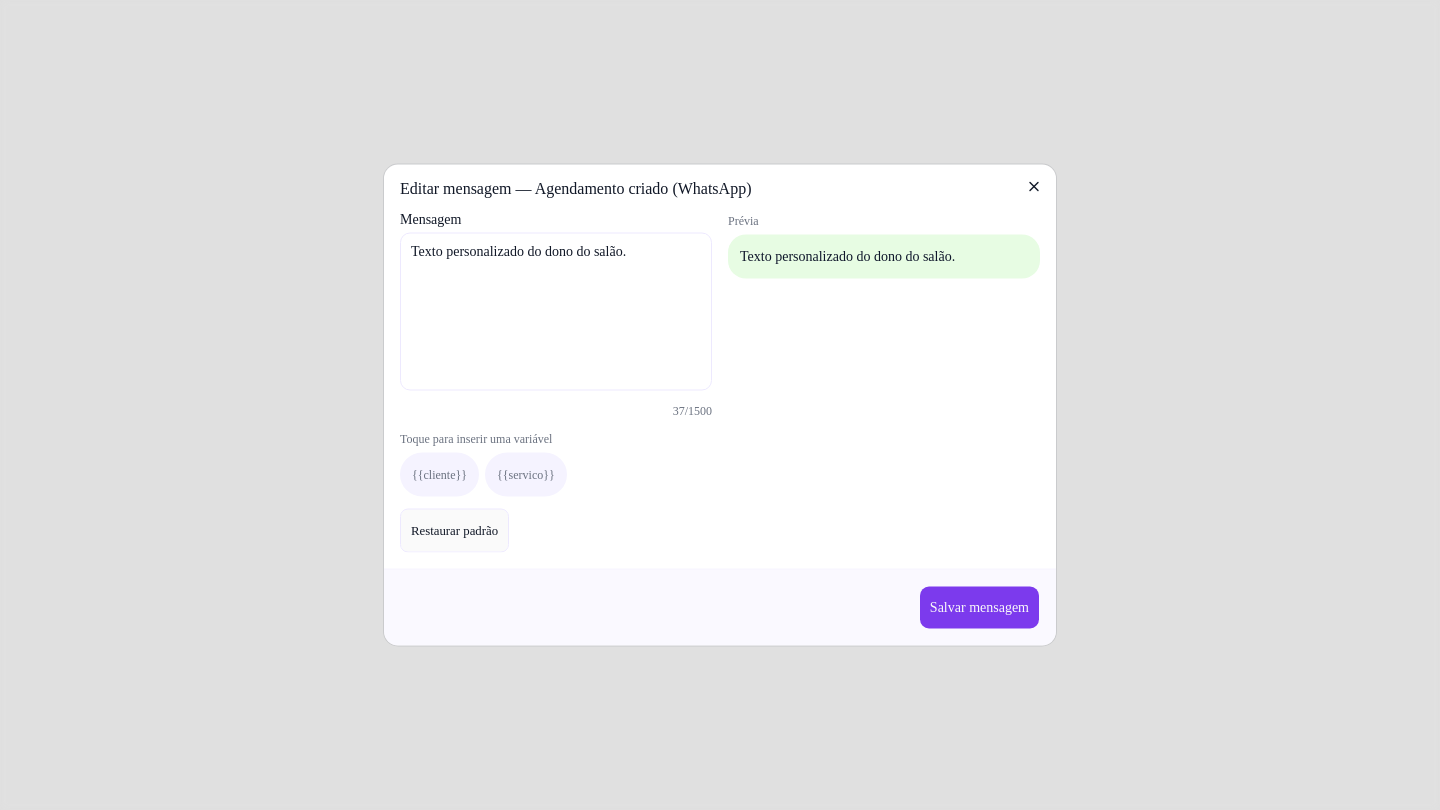
CustomerMessageEditor › mostra "Restaurar padrão" quando isCustom e restaura o texto ao confirmar
Check: the text box "Texto personalizado do dono do salão." is shown, box [400,232,712,390]
Click the button "Restaurar padrão" at (455, 530), box [400,508,509,552]
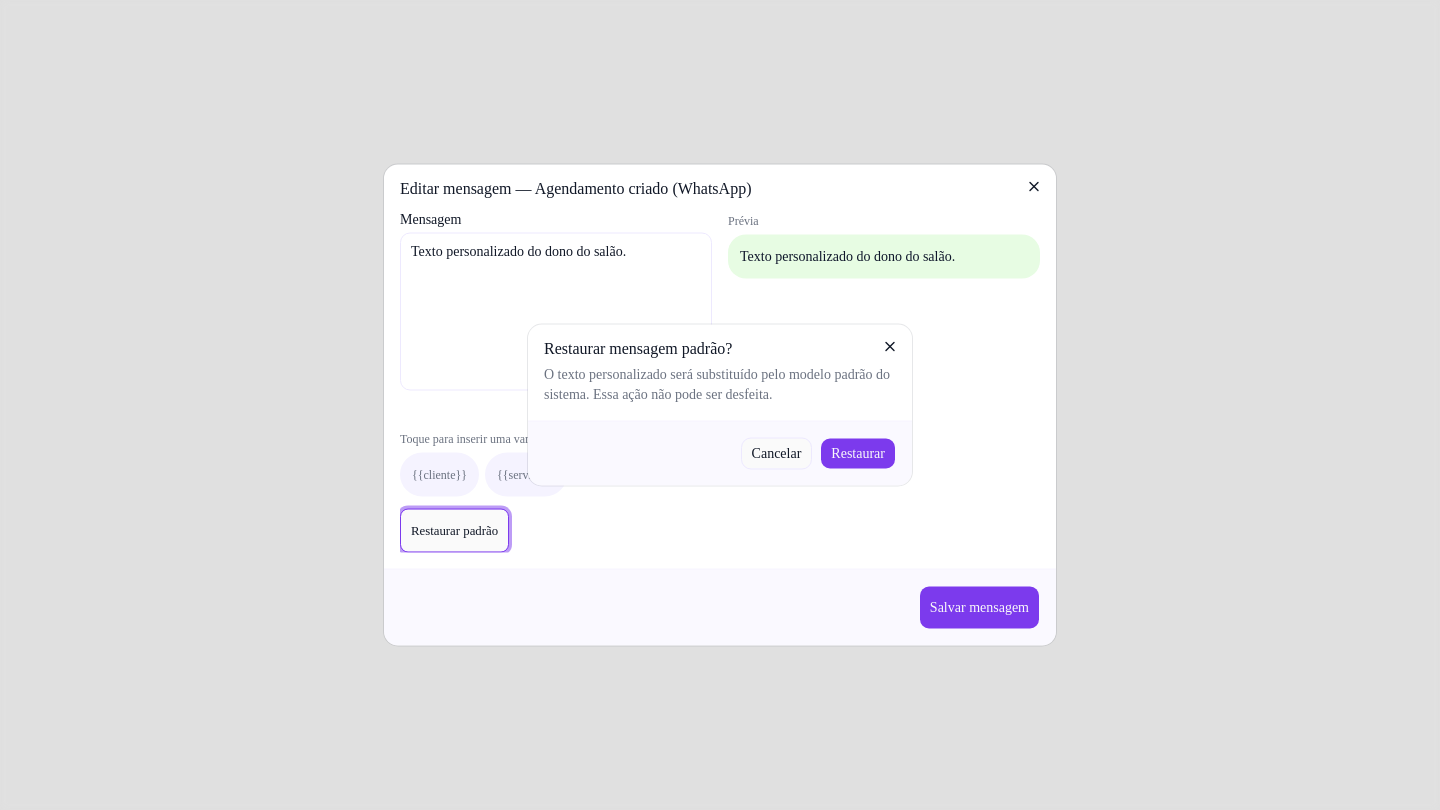
Click the button "Restaurar" at (858, 454), box [820,438,896,470]
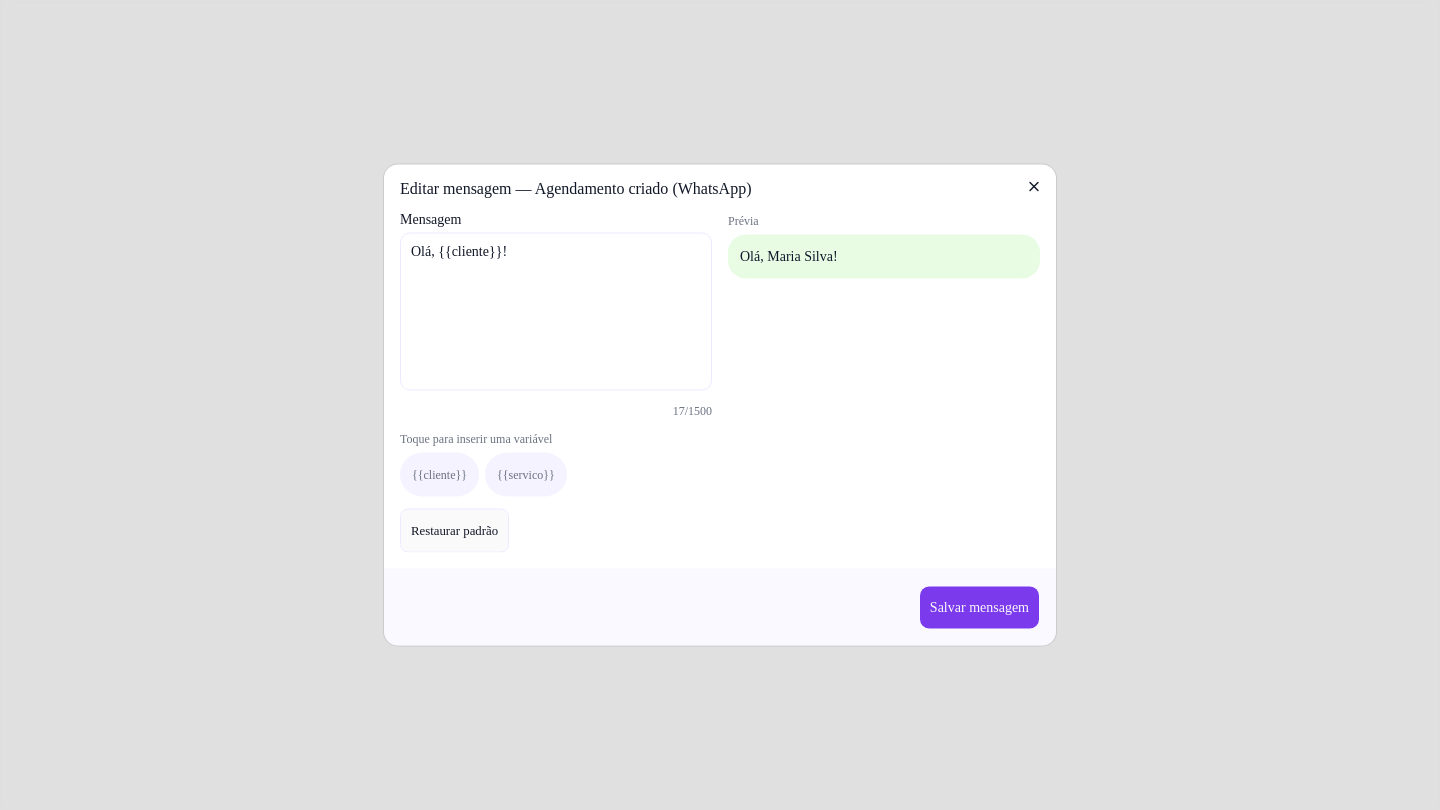
Check: the text box labelled "Mensagem" holds "Olá, {{cliente}}!", box [400,232,712,390]
